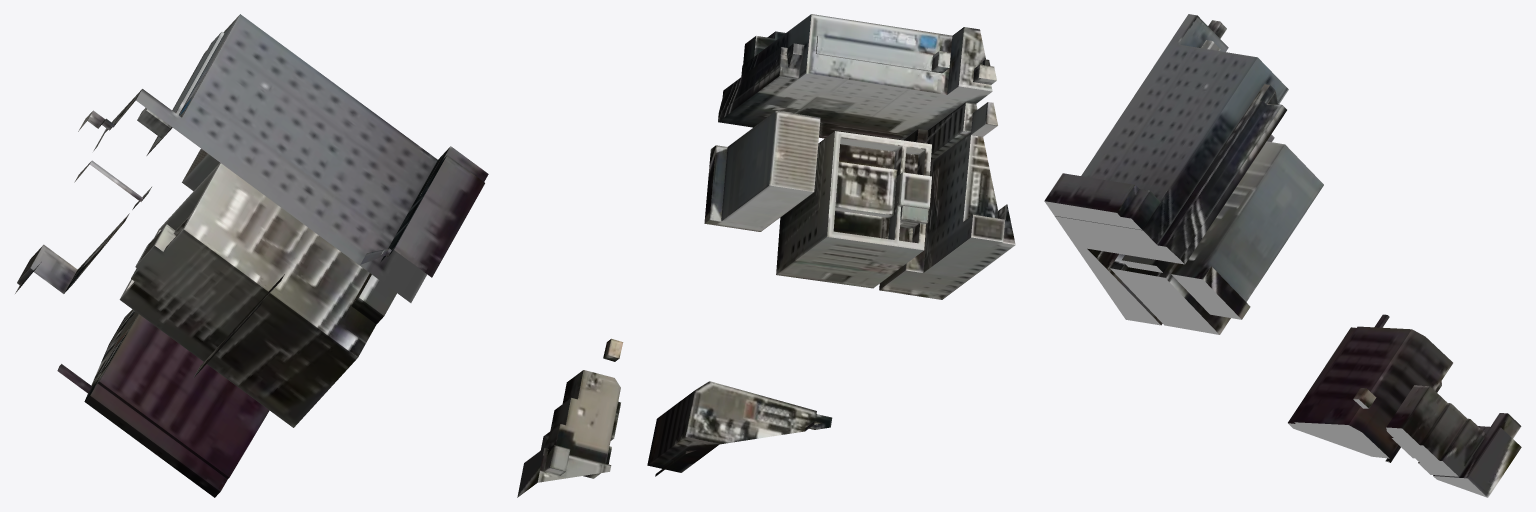
The model's file is 39542_bldg_Building.glb.
3 renders of one model, left to right at view 1: azimuth 30°, elevation 25°; view 2: azimuth 150°, elevation 25°; view 3: azimuth 270°, elevation 25°, orthographic. The views are drawn at different scales.
Bounding box in the file's own units: 66.81 × 74.57 × 86.75.
Materials: 2 (1 with a texture image).
